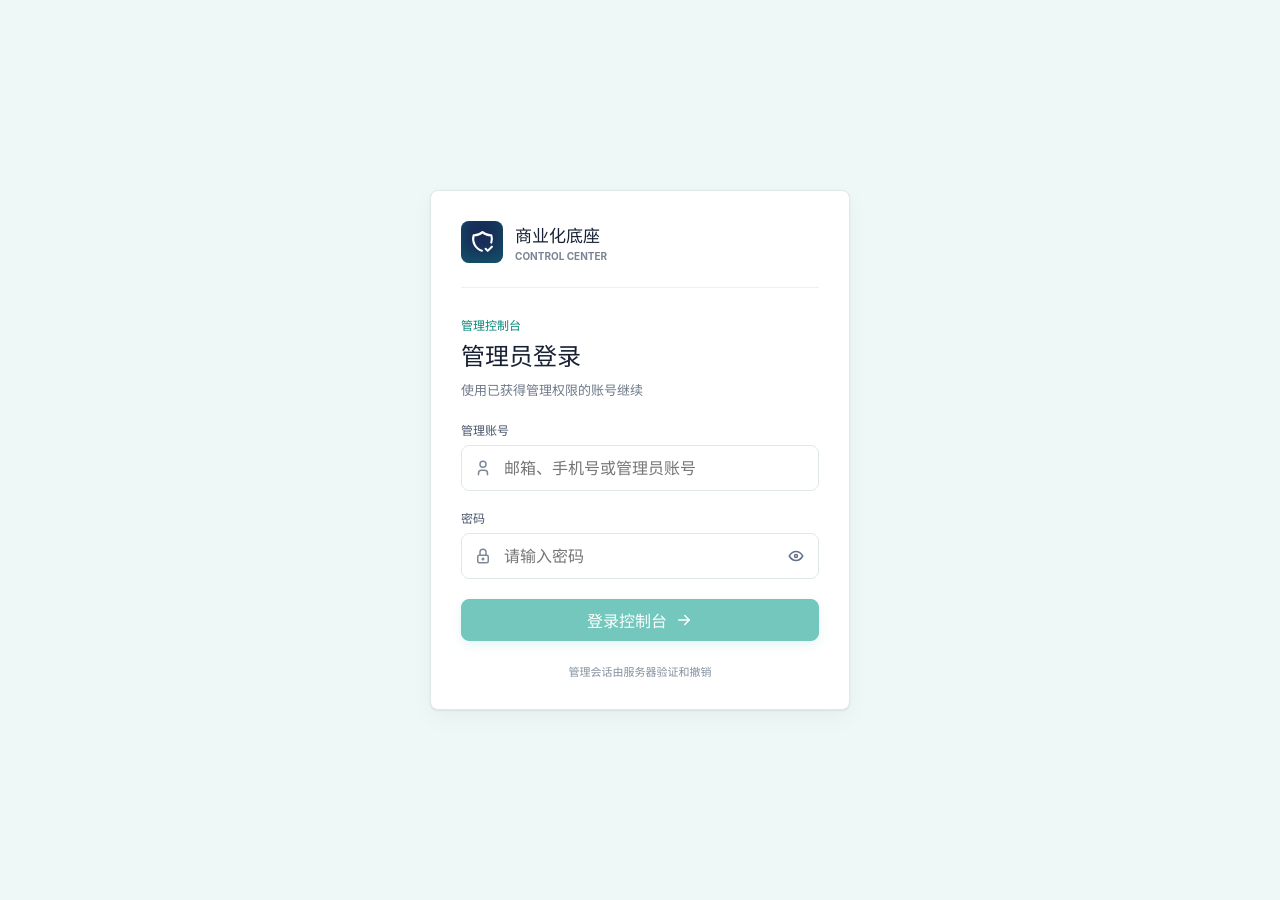
Test: 管理员会话保护 › 登录后回到原内部路径，凭据失败只显示通用错误
This screenshot has width=1280, height=900.
Expected: the heading "管理员登录" is shown, [461, 342, 581, 371]
In the field labelled "管理账号": (640, 468) [461, 445, 819, 491], type "admin@example.com"
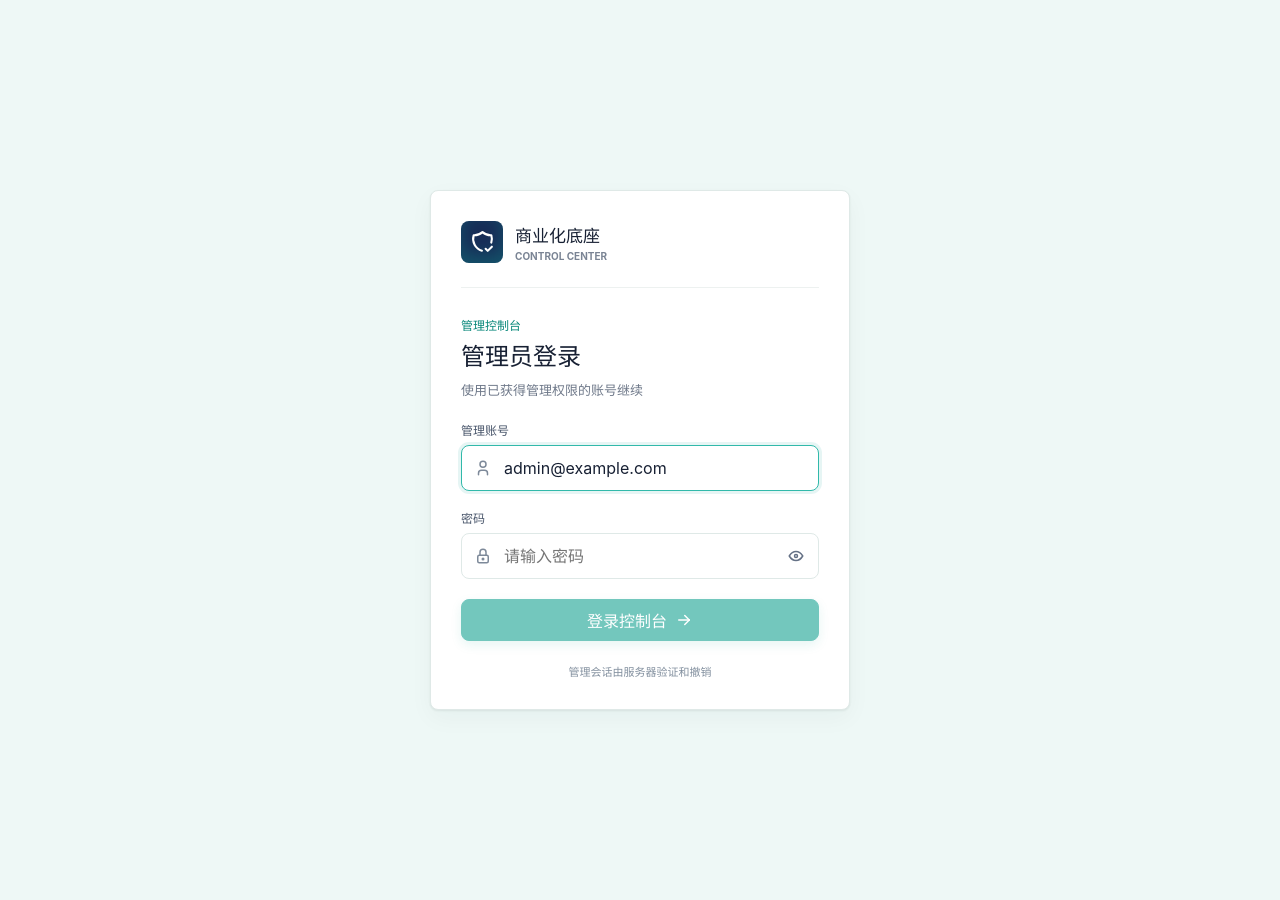
In the password field labelled "密码": (640, 556) [461, 533, 819, 579], type "wrong-password"
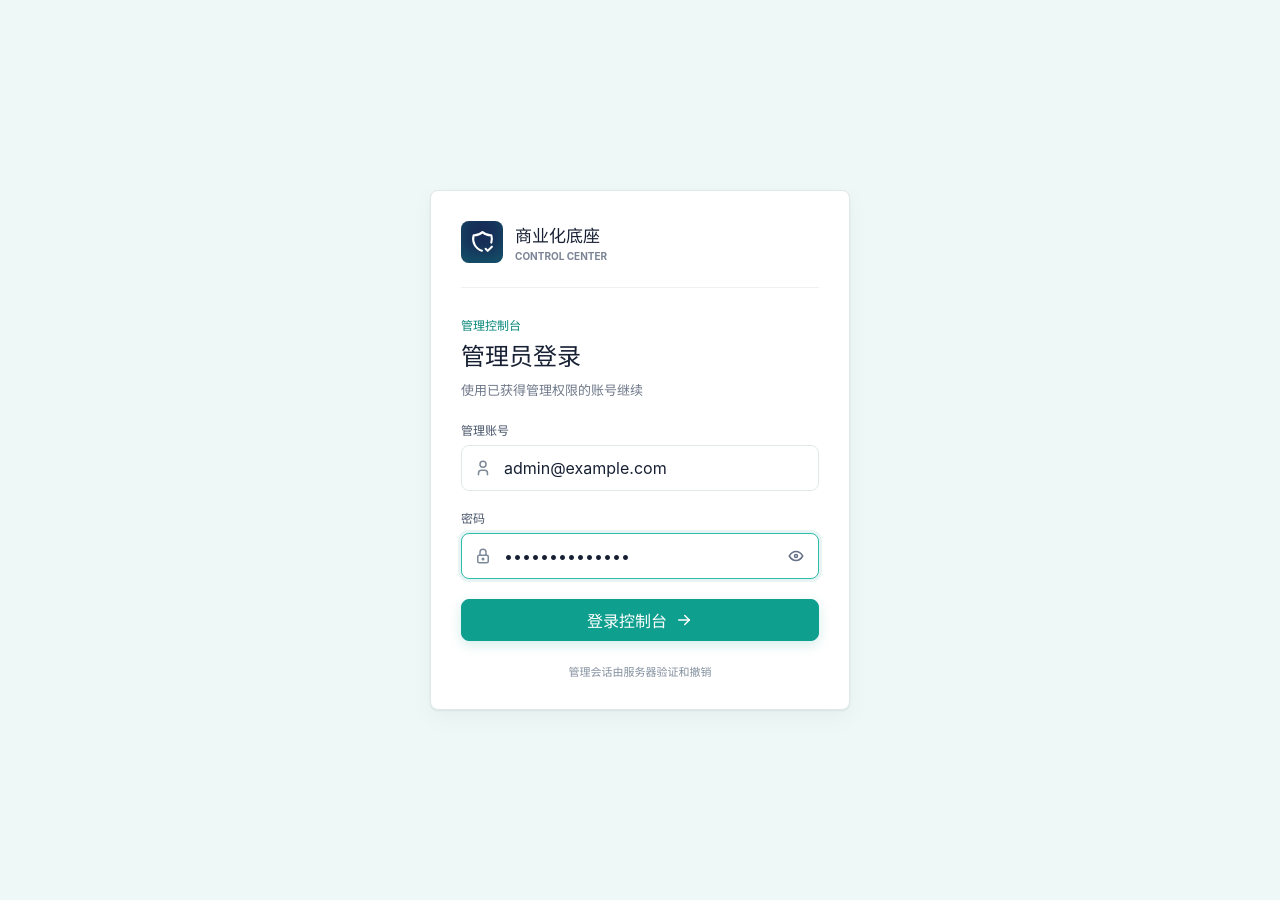
Click the button "登录控制台": (640, 620) [461, 599, 819, 641]
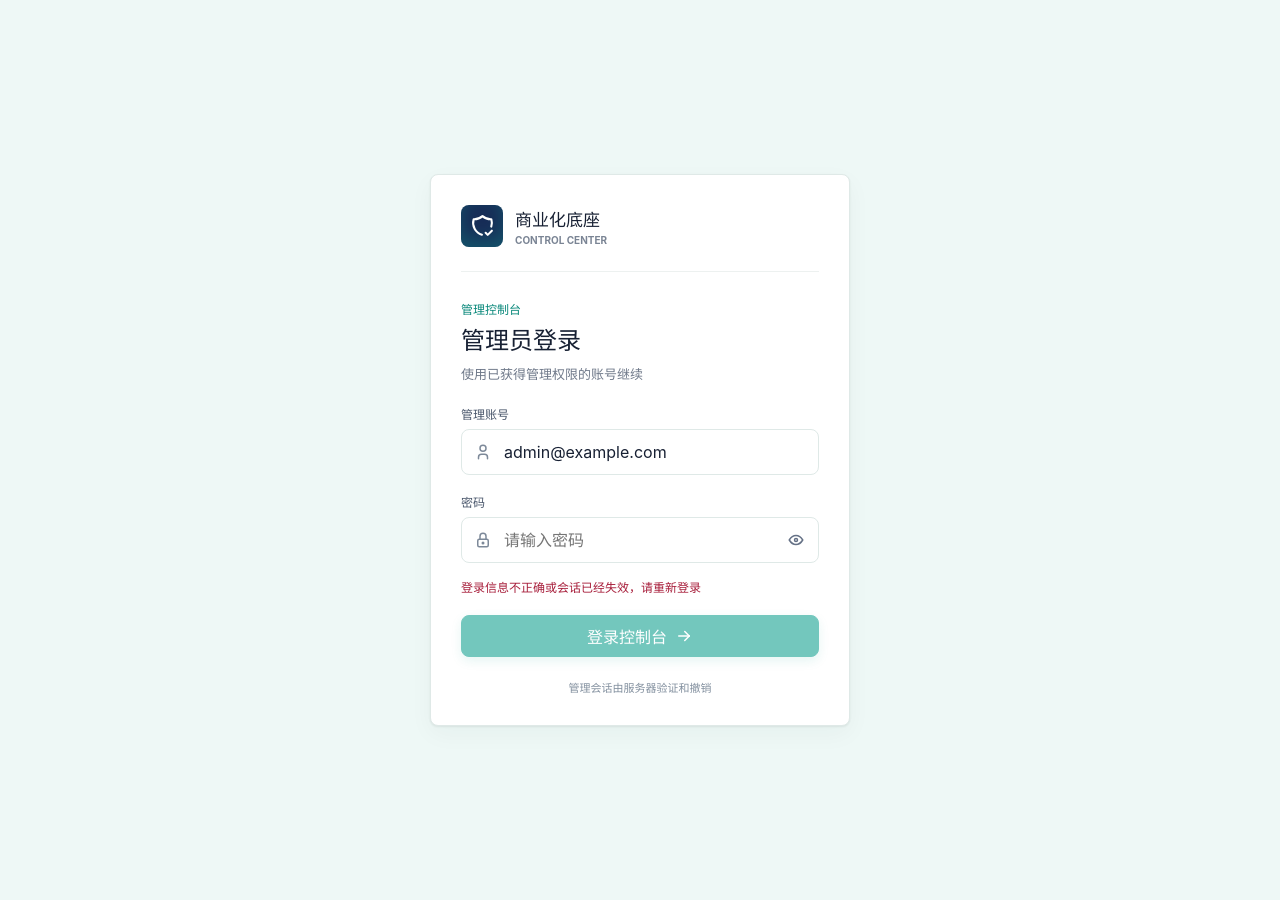
Expected: the message shows "登录信息不正确或会话已经失效", [461, 580, 701, 595]
In the password field labelled "密码": (640, 540) [461, 517, 819, 563], type "correct-password"
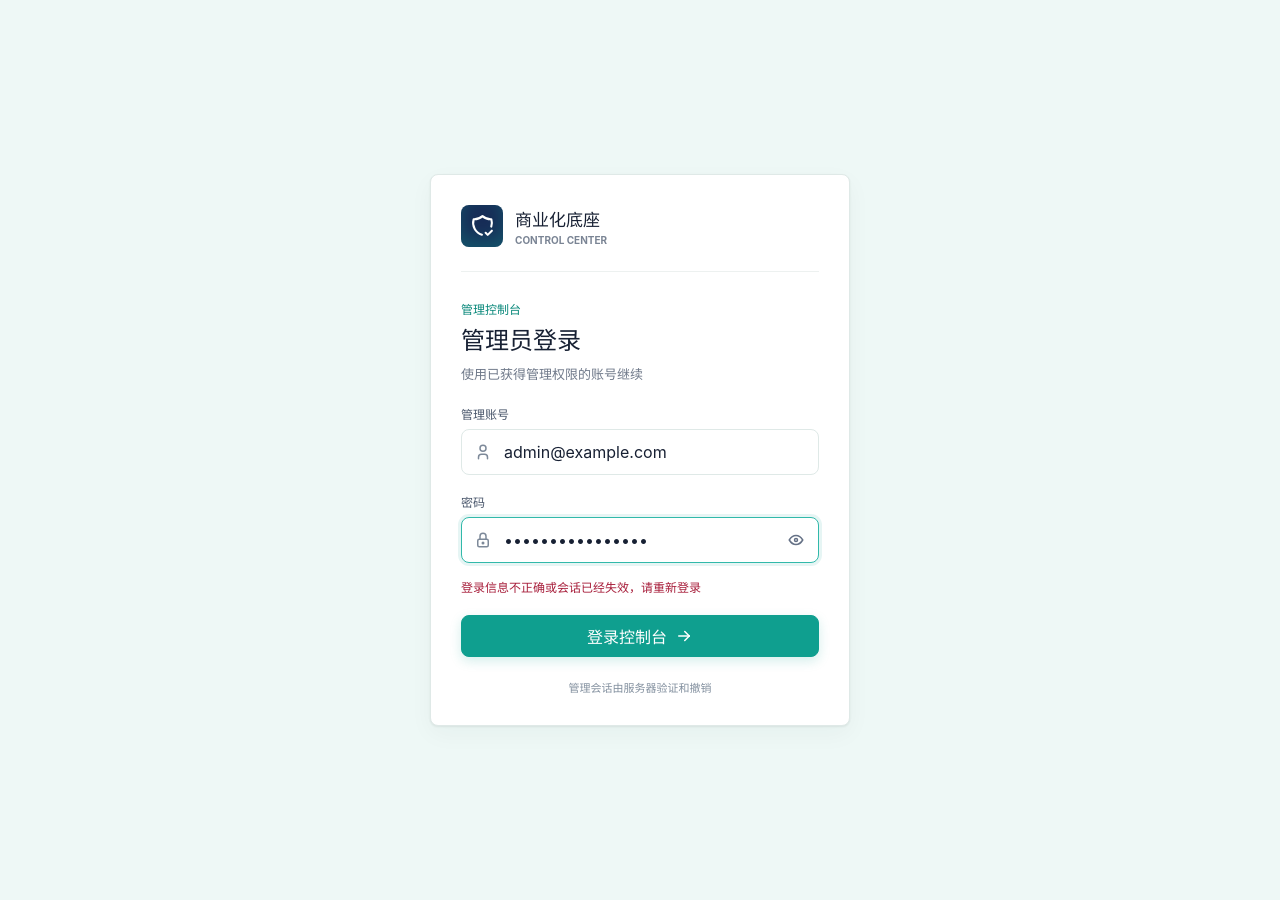
Click the button "登录控制台": (640, 636) [461, 615, 819, 657]
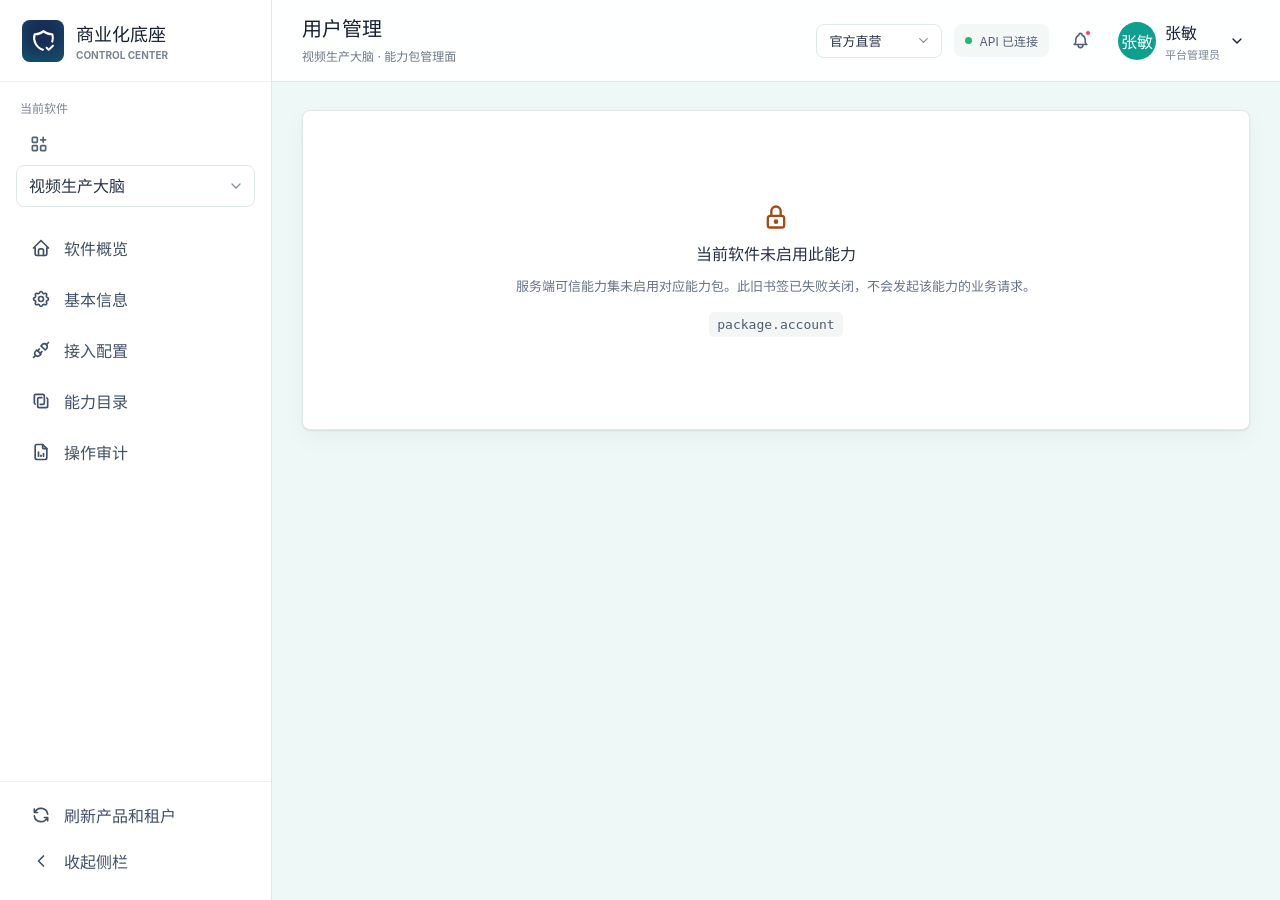
Expected: the heading "用户管理" is shown, [302, 17, 382, 41]
